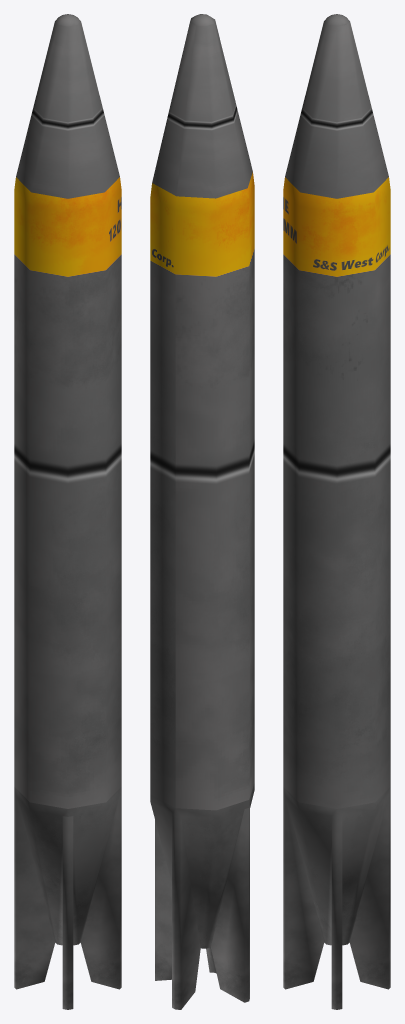
Rendered from ra-7-rocket.glb.
3 renders of one model, left to right at view 1: azimuth 90°, elevation 25°; view 2: azimuth 150°, elevation 25°; view 3: azimuth 270°, elevation 25°, orthographic.
Visible parts, largest first — view 1: RA-7_0; view 2: RA-7_0; view 3: RA-7_0.
Part boxes in pixels (left/top/right/bottom): RA-7_0: left=14, top=14, right=121, bottom=1009; RA-7_0: left=150, top=14, right=254, bottom=1009; RA-7_0: left=283, top=14, right=390, bottom=1009.
Size of the model in its own units: 0.5611 by 5.61 by 0.5611.
Materials: 1 (1 with a texture image).
